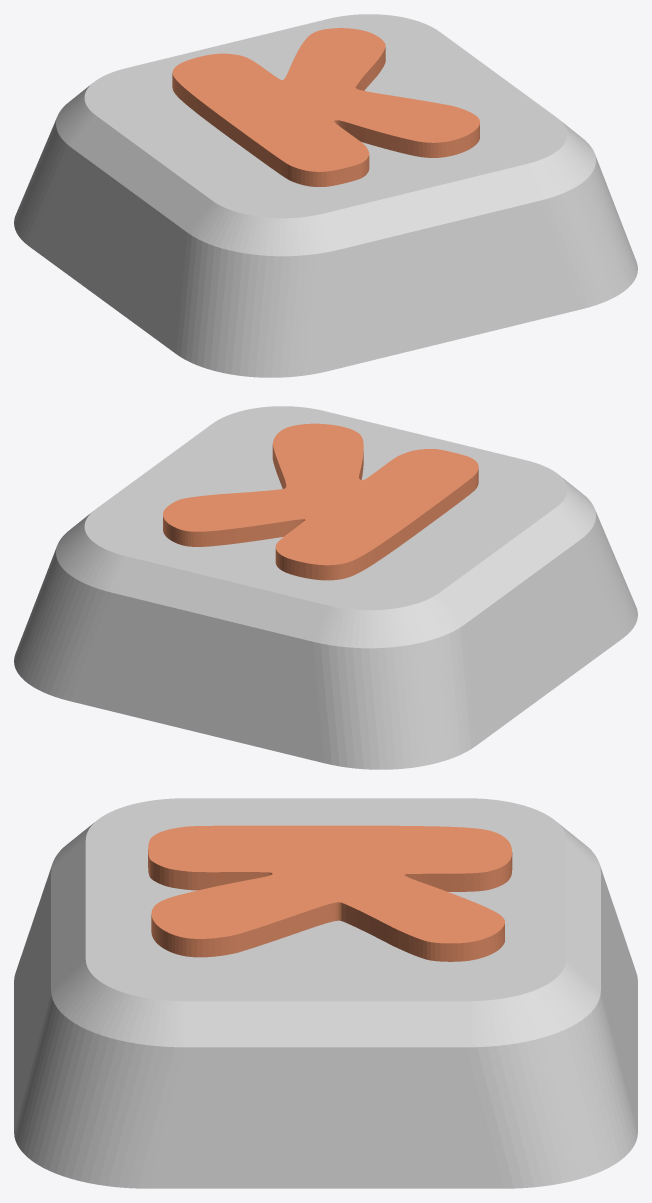
The model's file is cap-K.glb.
3 renders of one model, top to bottom at view 1: azimuth 30°, elevation 25°; view 2: azimuth 150°, elevation 25°; view 3: azimuth 270°, elevation 25°, orthographic. The views are drawn at different scales.
Parts seen in each view (by area): view 1: cap_0, glyph_1; view 2: cap_0, glyph_1; view 3: cap_0, glyph_1.
Boxes of the visible parts, <box> form: cap_0: <box>14,14,637,377</box>; glyph_1: <box>172,28,479,186</box>; cap_0: <box>14,406,637,769</box>; glyph_1: <box>163,423,478,580</box>; cap_0: <box>14,798,637,1188</box>; glyph_1: <box>148,825,512,961</box>.
Size of the model in its own units: 18 by 5.59 by 18.
